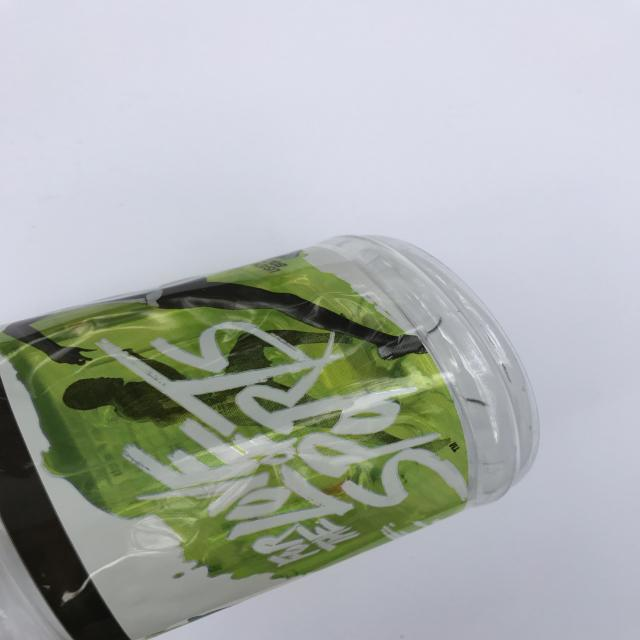plastic: (0, 232, 544, 640)
